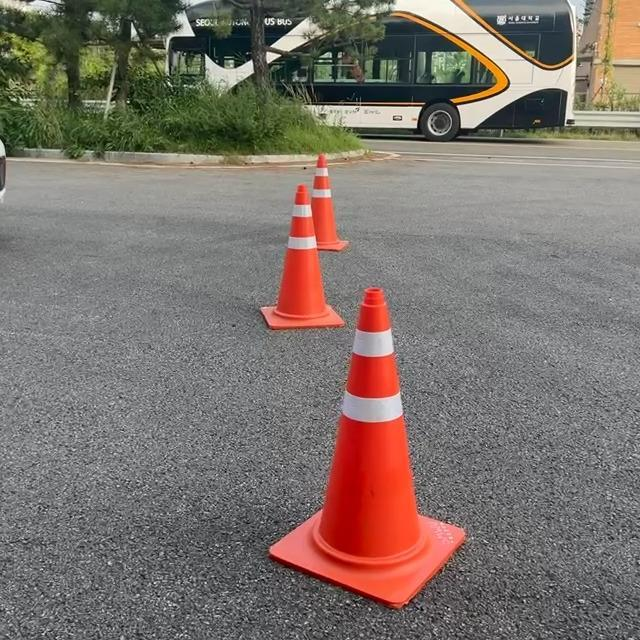fallen_object: (300, 273, 470, 602), (170, 166, 329, 344), (287, 130, 410, 277)
